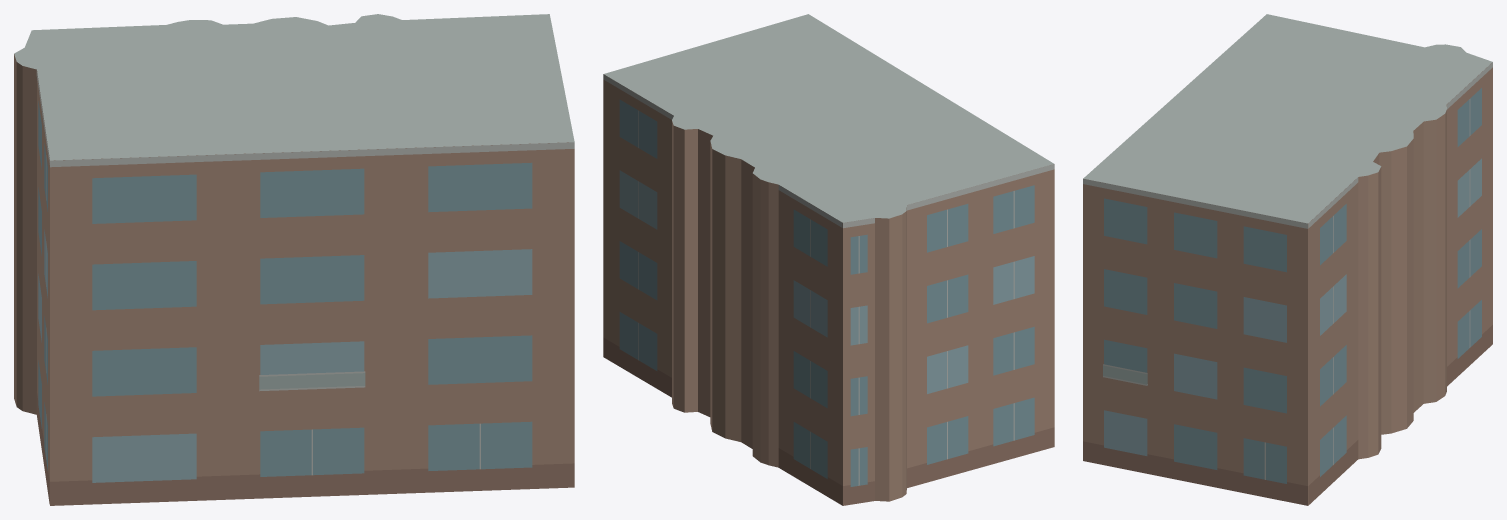
File: survey-upis-32884351.glb
The picture shows the model from 3 angles, left to right: view 1: azimuth 30°, elevation 25°; view 2: azimuth 150°, elevation 25°; view 3: azimuth 270°, elevation 25°; orthographic projection. The views are drawn at different scales.
Parts seen in each view (by area): view 1: survey-upis-32884351.tmp; view 2: survey-upis-32884351.tmp; view 3: survey-upis-32884351.tmp.
Part boxes in pixels (x1,y1,x2,y2): survey-upis-32884351.tmp: [14, 14, 574, 505]; survey-upis-32884351.tmp: [603, 14, 1054, 505]; survey-upis-32884351.tmp: [1083, 14, 1492, 505].
Bounding box in the file's own units: 20.22 × 12.7 × 16.71.
